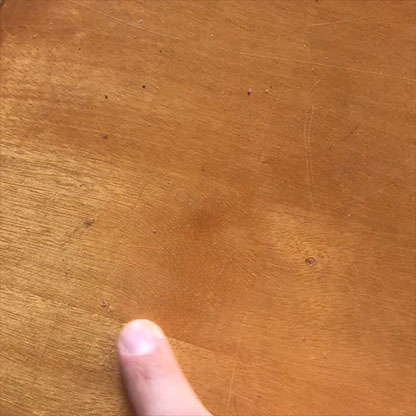fingertip: (110, 316, 174, 368)
